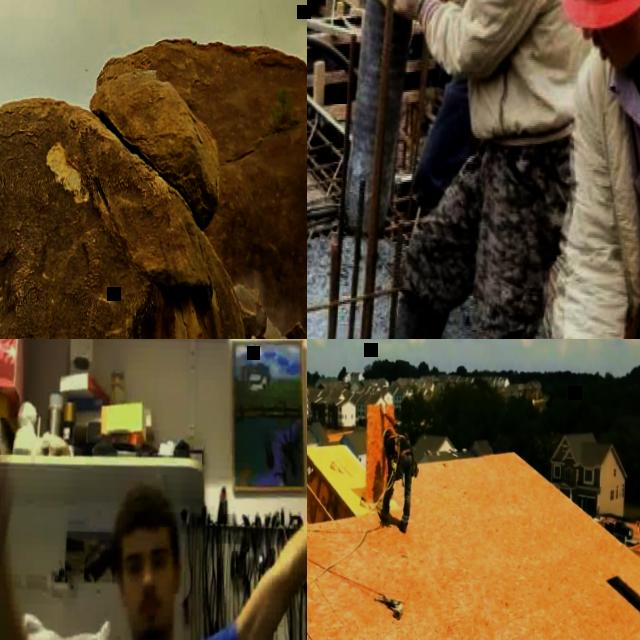Hardhat: (556, 0, 640, 27), (381, 427, 388, 445)
NO-Hardhat: (113, 484, 169, 540)
NO-Mask: (127, 591, 168, 640), (605, 27, 638, 70)
NO-Safety Vest: (460, 0, 586, 141), (597, 46, 640, 328), (388, 433, 410, 458)
Person: (339, 0, 599, 339), (0, 378, 307, 640), (535, 0, 640, 339), (377, 426, 412, 532)
vehicle: (0, 0, 295, 339)
